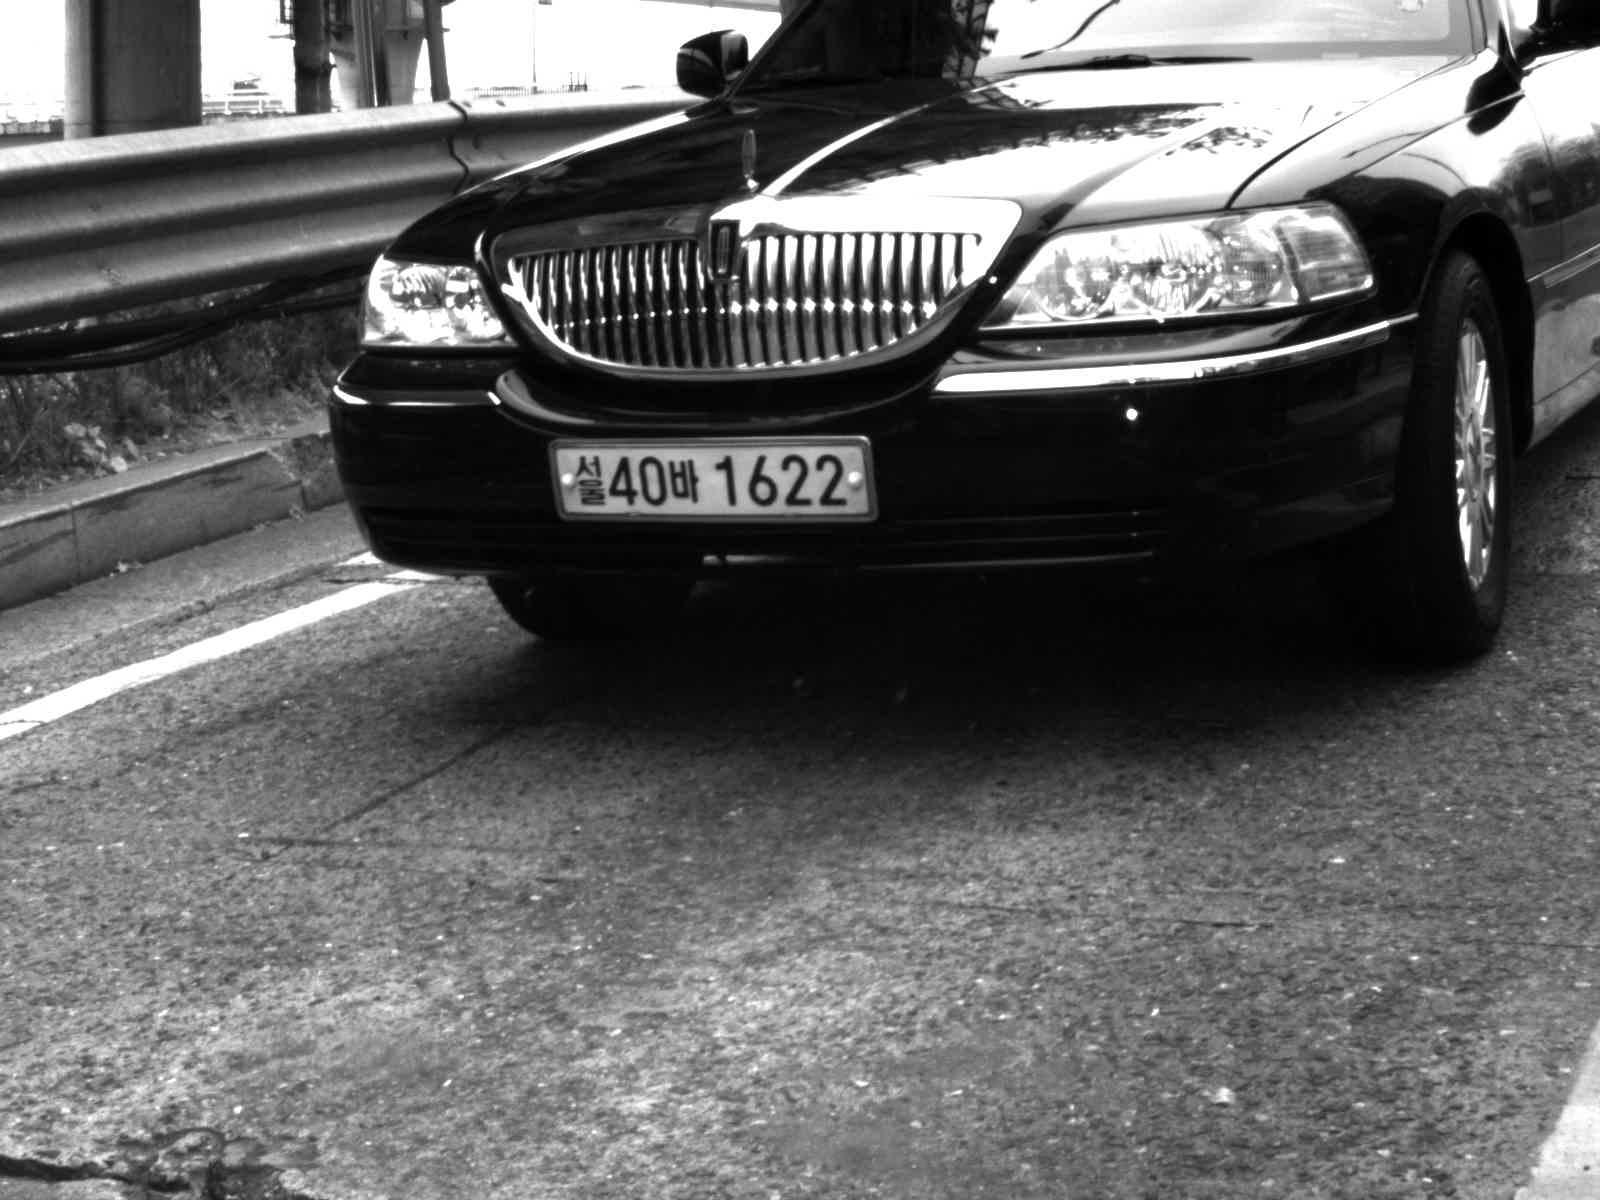P4_서울40바1622: (554, 439, 875, 516)
바: (668, 454, 703, 505)
서울: (572, 448, 606, 511)
